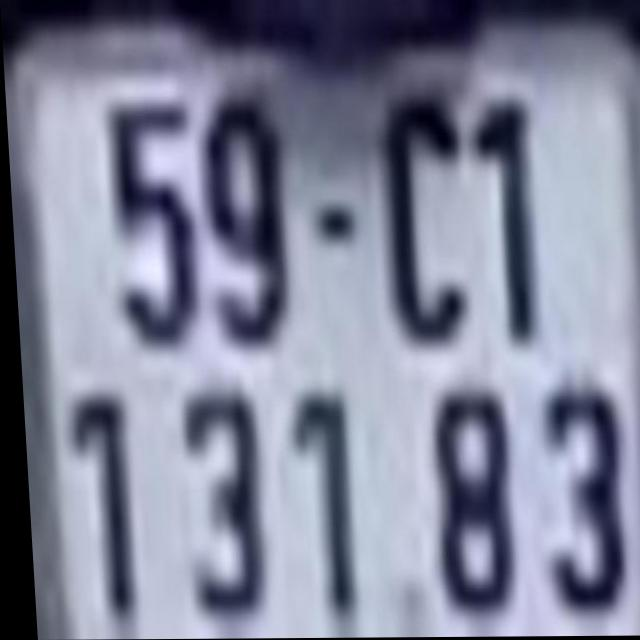1: (282, 389, 360, 625), (61, 396, 138, 618), (470, 98, 533, 350)
3: (173, 385, 260, 616), (539, 386, 621, 610)
5: (106, 101, 199, 347)
8: (426, 386, 512, 611)
9: (197, 102, 284, 341)
C: (377, 99, 466, 347)
